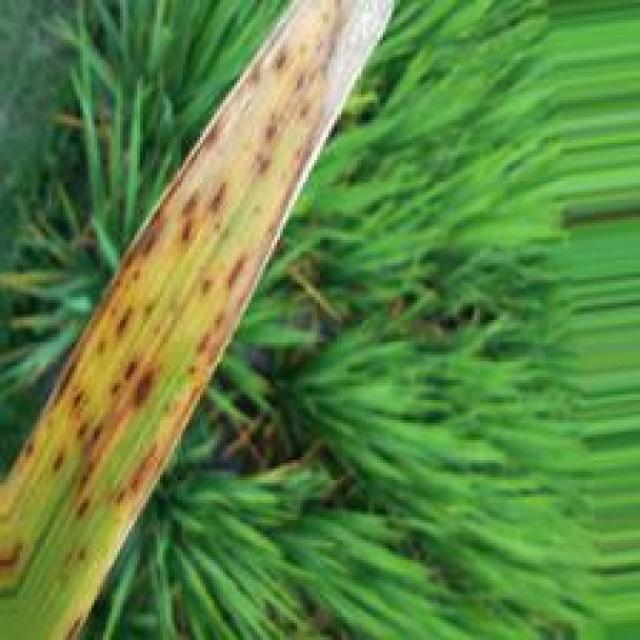Narrow_Brown_Leaf_Spot: (0, 0, 410, 592)
